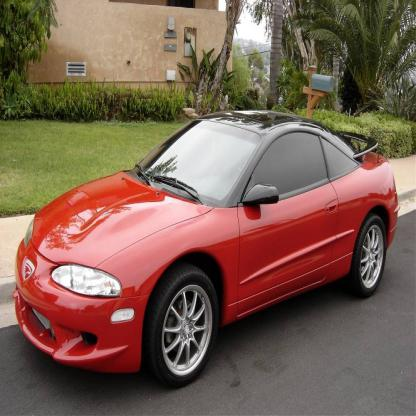Vehicle: (13, 110, 401, 383)
